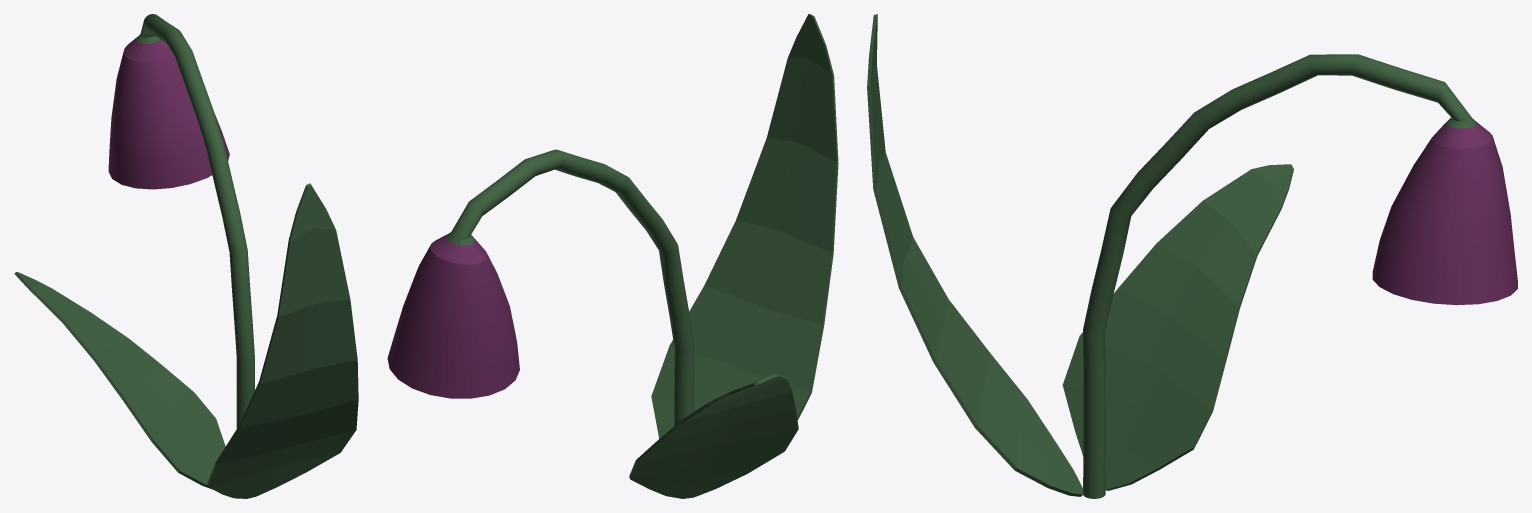
The model's file is Flower1.fbx.
3 renders of one model, left to right at view 1: azimuth 30°, elevation 25°; view 2: azimuth 150°, elevation 25°; view 3: azimuth 270°, elevation 25°, orthographic. The views are drawn at different scales.
Parts seen in each view (by area): view 1: Leaf1_geo, StemAndFlower_geo, Leaf2_geo; view 2: Leaf1_geo, StemAndFlower_geo, Leaf2_geo; view 3: StemAndFlower_geo, Leaf2_geo, Leaf1_geo.
Boxes of the visible parts, x1,y1,x2,y2 form: Leaf1_geo: [207, 183, 358, 498]; StemAndFlower_geo: [108, 14, 254, 428]; Leaf2_geo: [14, 272, 225, 488]; Leaf1_geo: [651, 14, 838, 438]; StemAndFlower_geo: [387, 149, 694, 425]; Leaf2_geo: [629, 373, 798, 498]; StemAndFlower_geo: [1083, 54, 1517, 498]; Leaf2_geo: [1062, 164, 1293, 490]; Leaf1_geo: [867, 14, 1083, 496].
Size of the model in its own units: 8.16 by 10.97 by 13.93.
